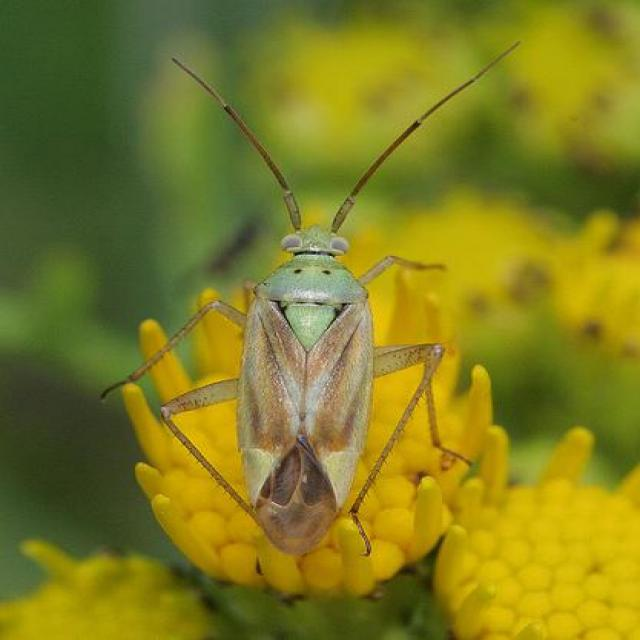Miridae-Adult-: (90, 30, 509, 548)
